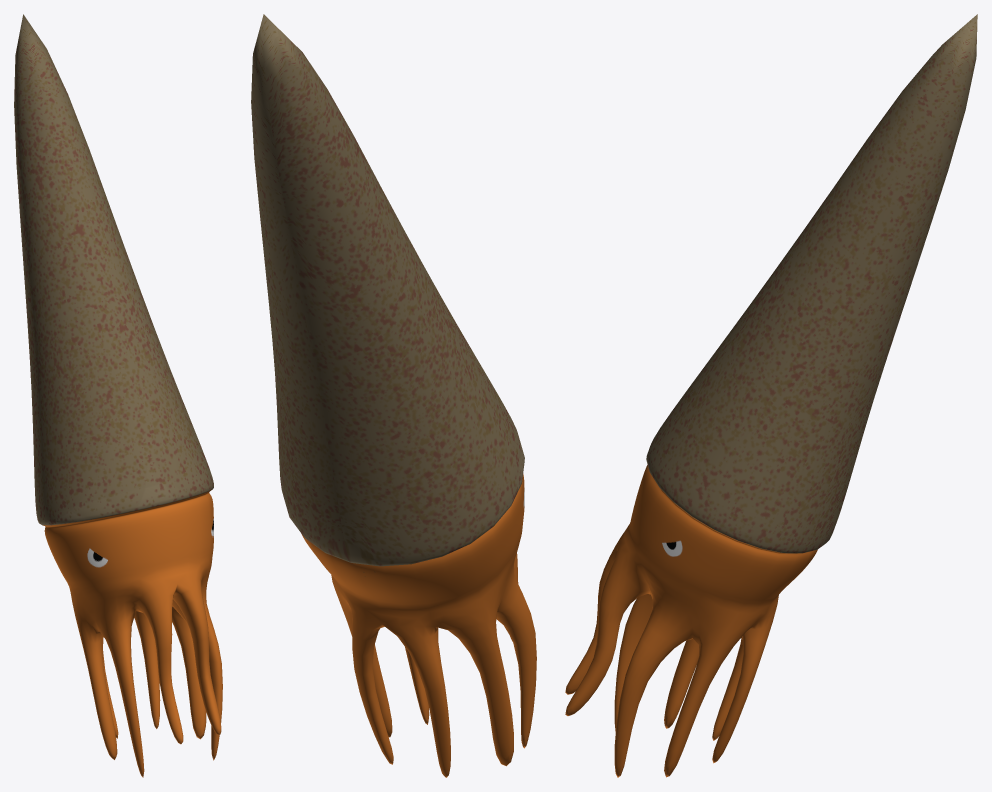
The model's file is ika.fbx.
The picture shows the model from 3 angles, left to right: view 1: azimuth 30°, elevation 25°; view 2: azimuth 150°, elevation 25°; view 3: azimuth 270°, elevation 25°; orthographic projection. The views are drawn at different scales.
Parts seen in each view (by area): view 1: pSphere6; view 2: pSphere6; view 3: pSphere6.
Boxes of the visible parts, x1=… form: pSphere6: x1=14, y1=14, x2=222, y2=777; pSphere6: x1=251, y1=14, x2=536, y2=777; pSphere6: x1=565, y1=14, x2=977, y2=777.
Bounding box in the file's own units: 1.75 × 6.84 × 3.44.
1 material, 1 textured.
